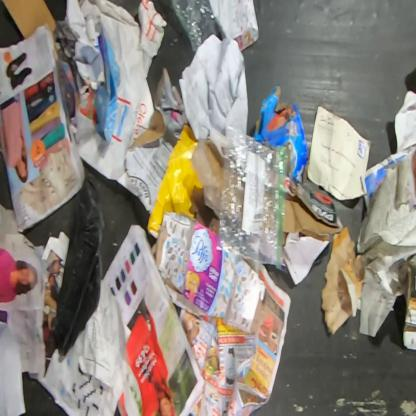cardboard: (152, 211, 268, 334), (125, 68, 187, 215), (281, 175, 344, 286), (253, 85, 310, 184), (95, 26, 121, 144), (191, 136, 225, 219), (2, 0, 58, 48), (402, 252, 415, 353)
rigid_plastic: (54, 171, 105, 358)
soft_plastic: (216, 124, 288, 270), (168, 0, 224, 58), (110, 0, 144, 18)
